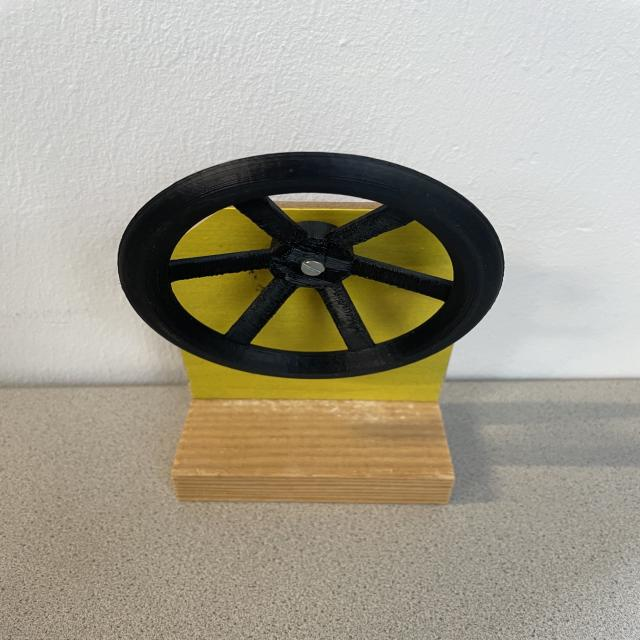Wheel Handle Valve Threaded: (114, 149, 503, 378)
